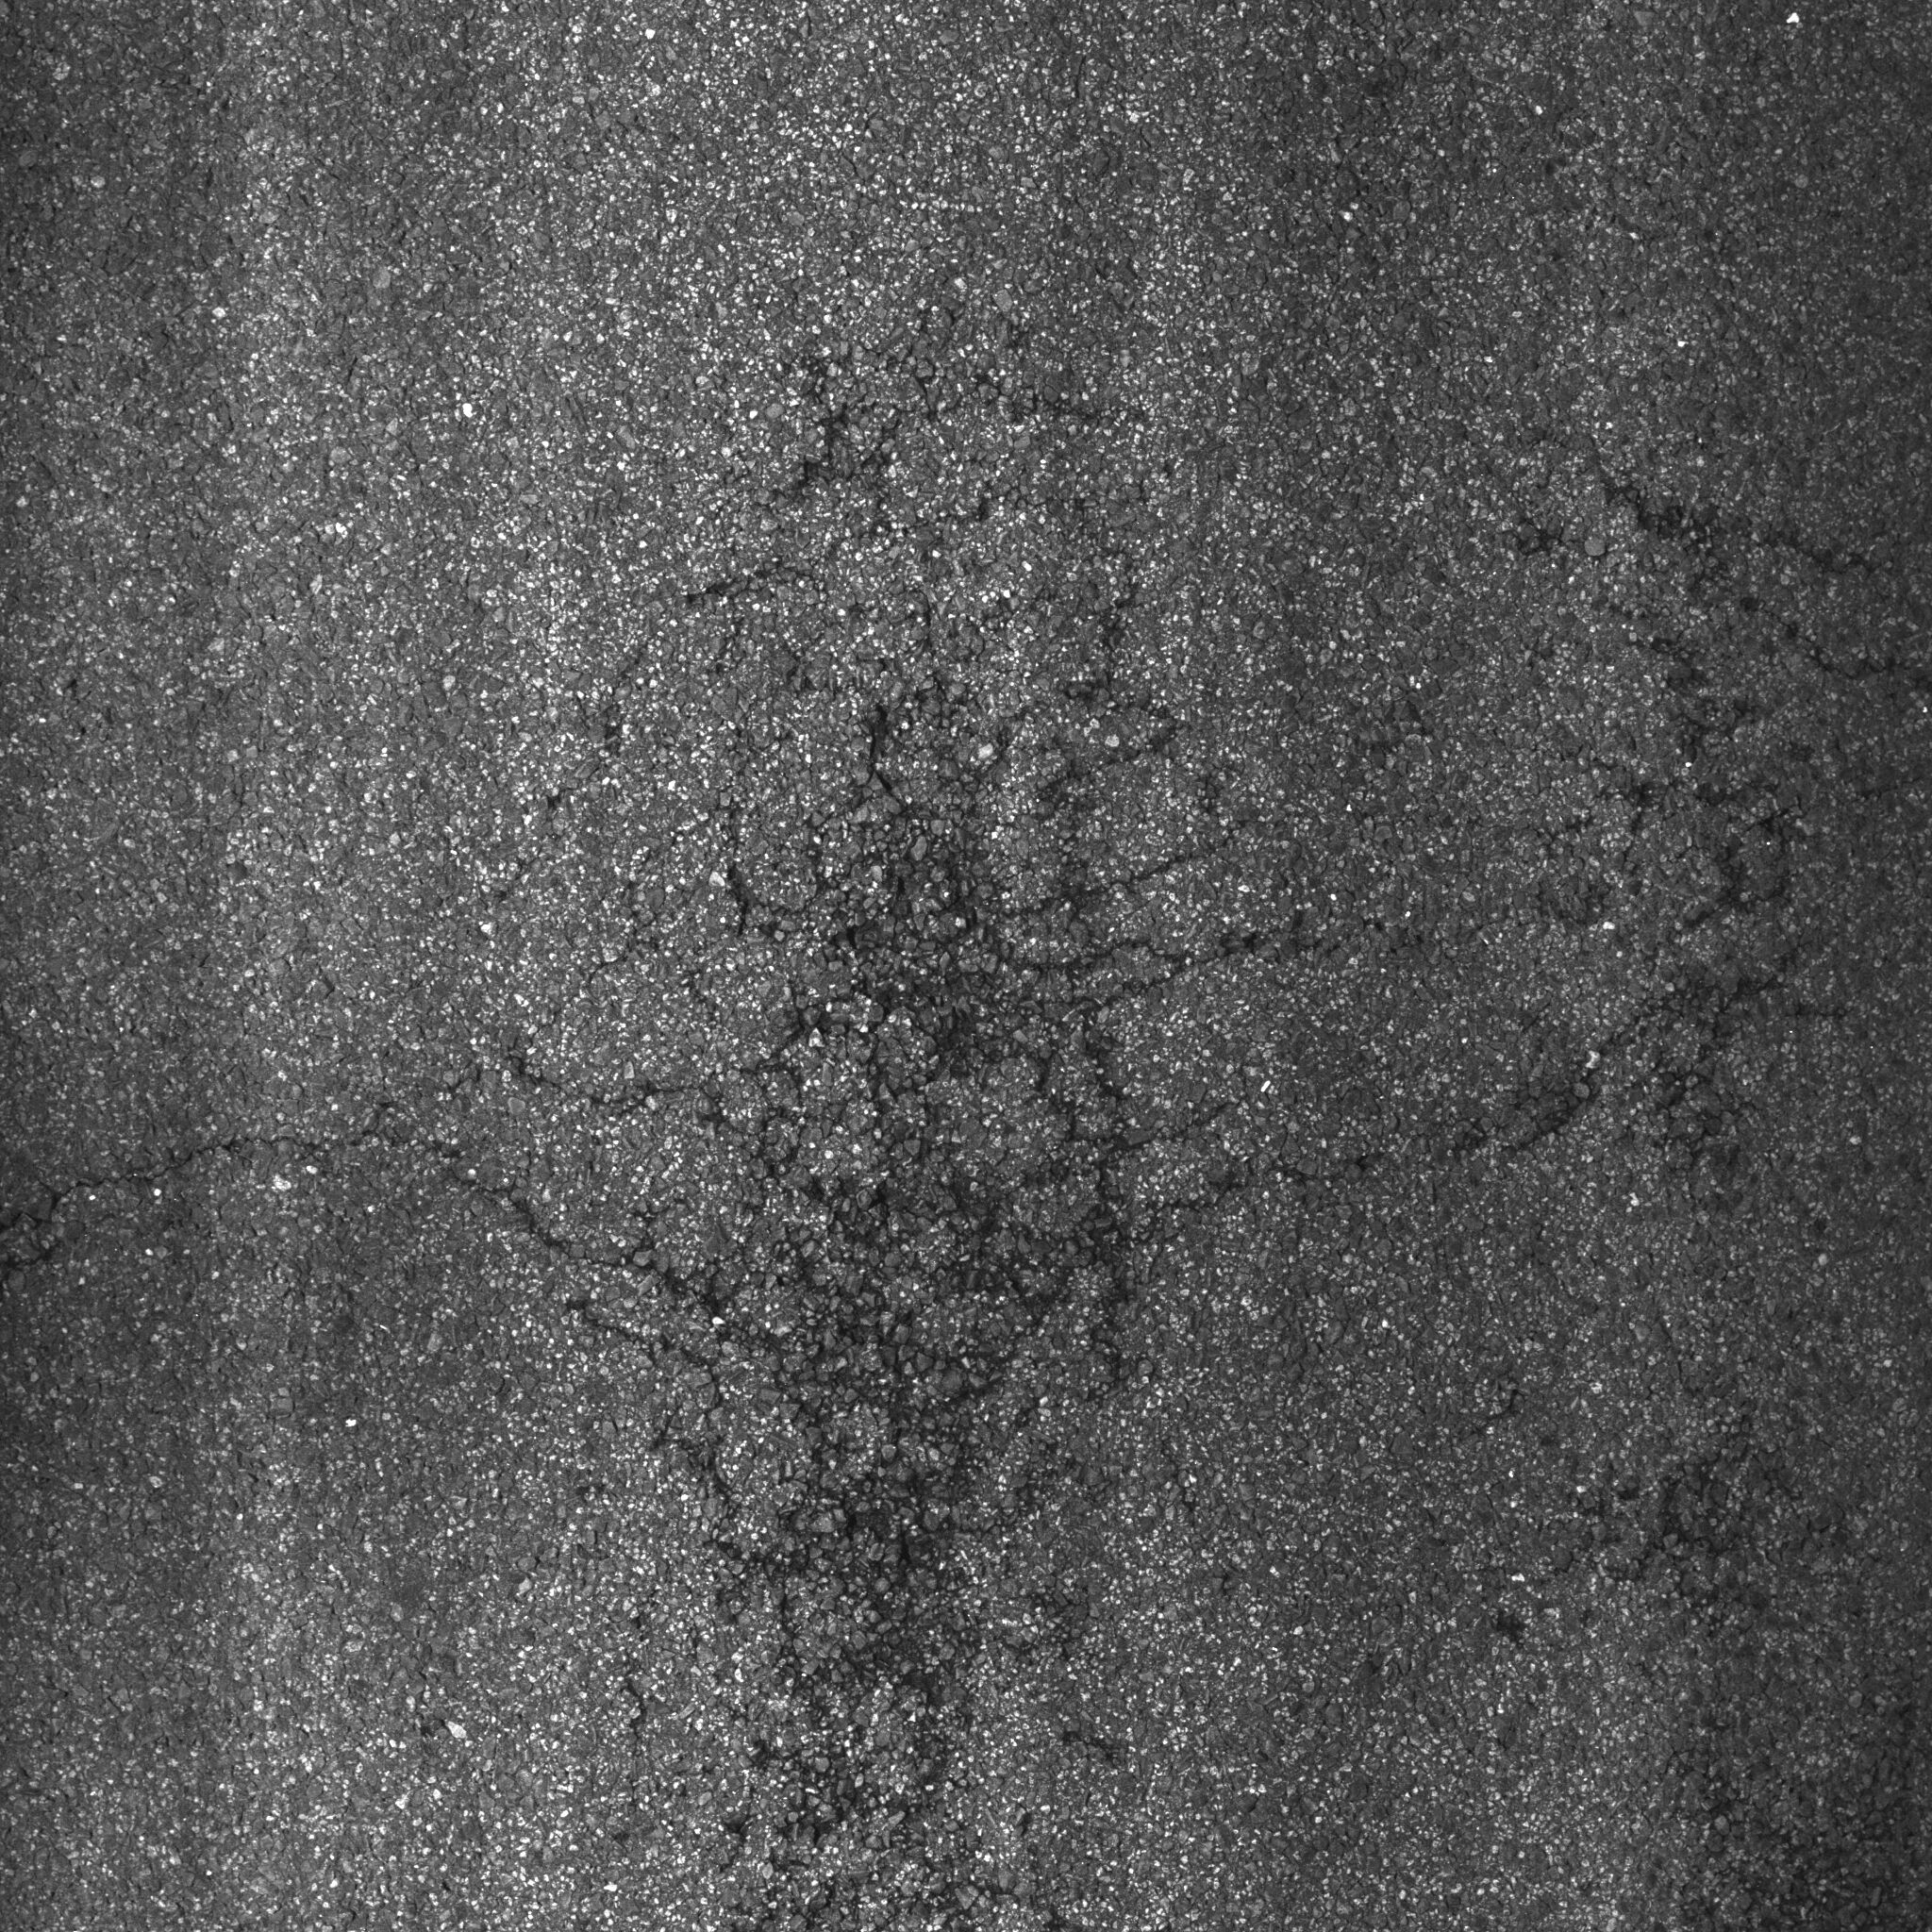alligator: (2, 377, 1932, 1847)
